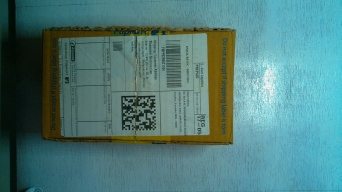a: (36, 21, 250, 152)
